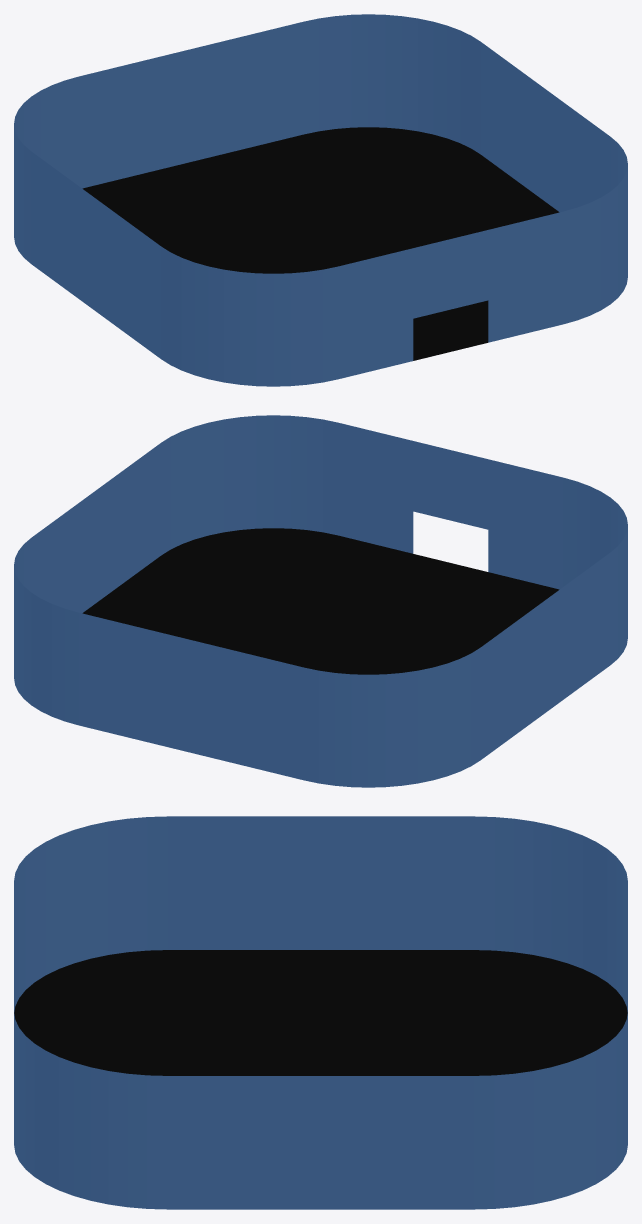
The model's file is Building.fbx.
3 renders of one model, top to bottom at view 1: azimuth 30°, elevation 25°; view 2: azimuth 150°, elevation 25°; view 3: azimuth 270°, elevation 25°, orthographic. The views are drawn at different scales.
Visible parts, largest first — view 1: Building; view 2: Building; view 3: Building.
Part boxes in pixels (x1,y1,x2,y2): Building: (14,14,627,386); Building: (14,415,627,787); Building: (14,816,627,1209).
Size of the model in its own units: 50 by 50 by 12.
